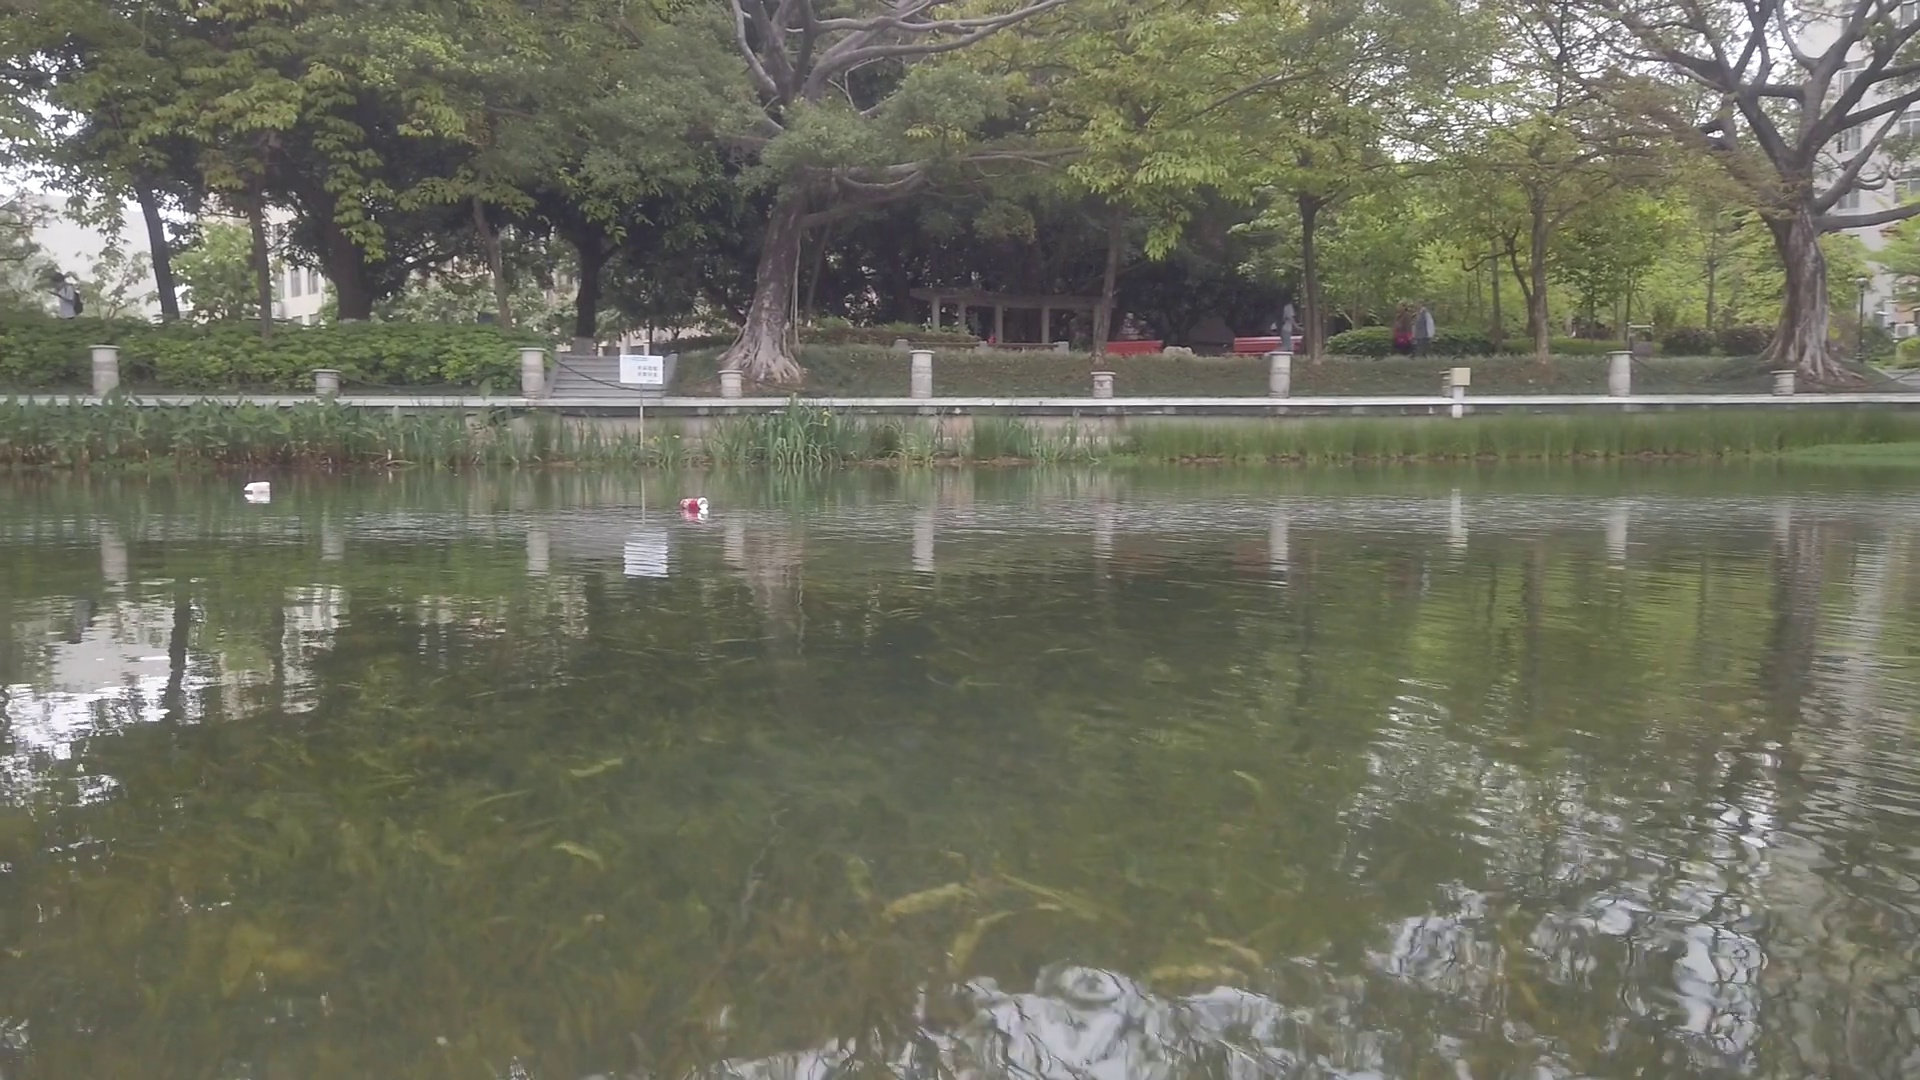bottle: (680, 495, 713, 512)
carton: (245, 483, 270, 492)
